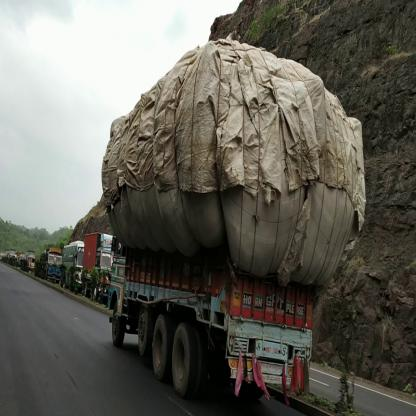overloaded-truck: (99, 39, 366, 297)
